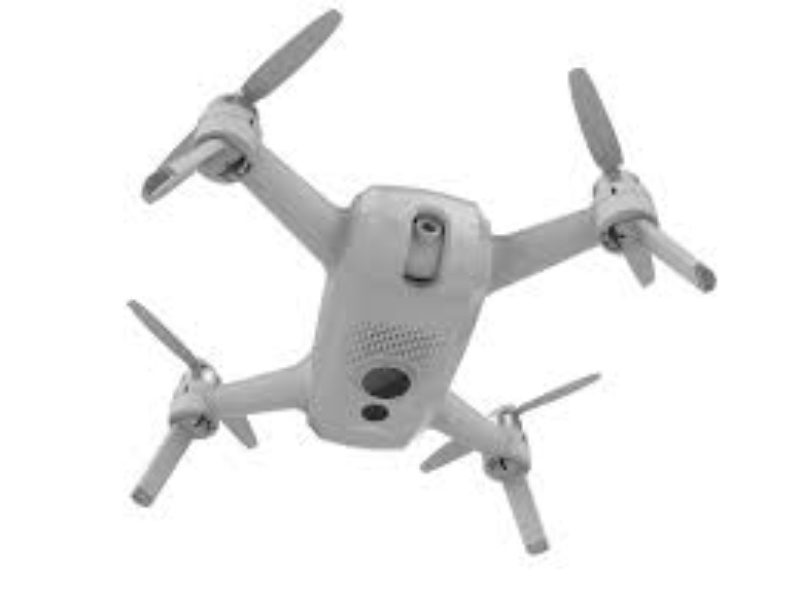drone: (128, 35, 736, 553)
